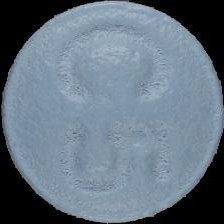0085-1264: (0, 0, 224, 224)
